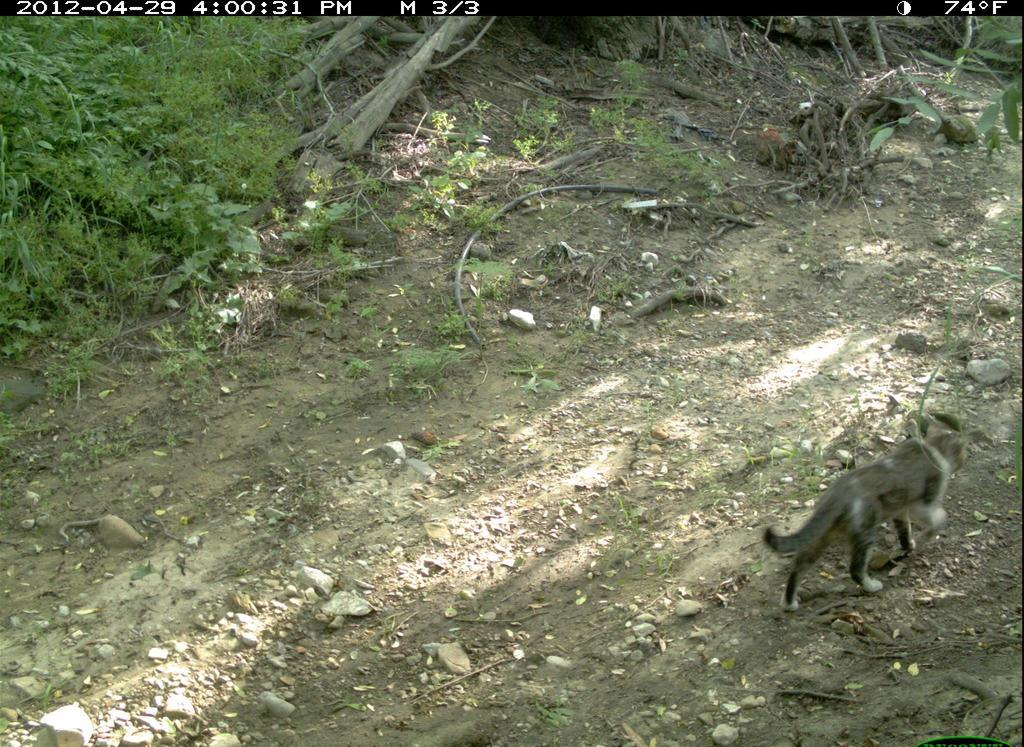cat: (757, 414, 984, 614)
